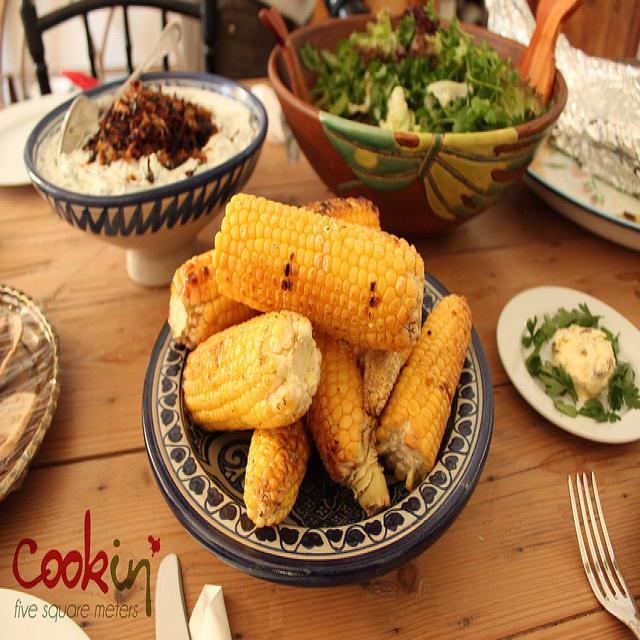chair: (21, 0, 219, 95)
